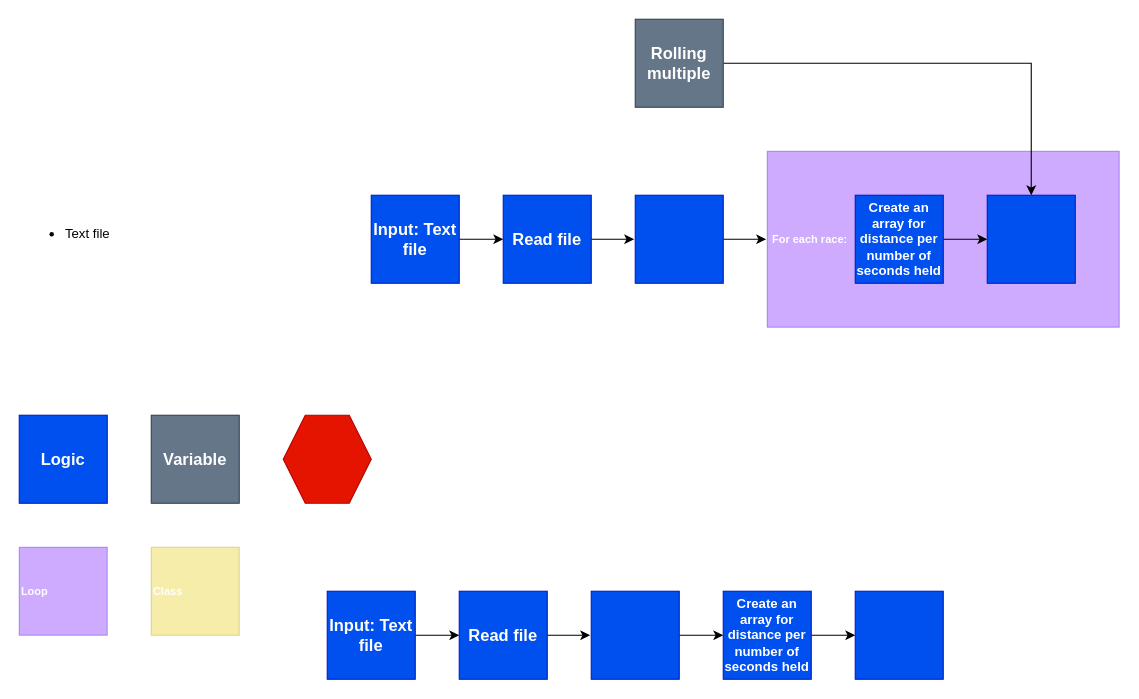
This 1139x699 diagram has some shape labels left out. Each missing label, with the centre of its shape:
Find number of ways to win: the point at 898,634
Multiply by the number of ways to beat the record: the point at 1030,238
Note: the point at 326,458
Parse data into one object: the point at 634,634
Parse data into one object per race: the point at 678,238
